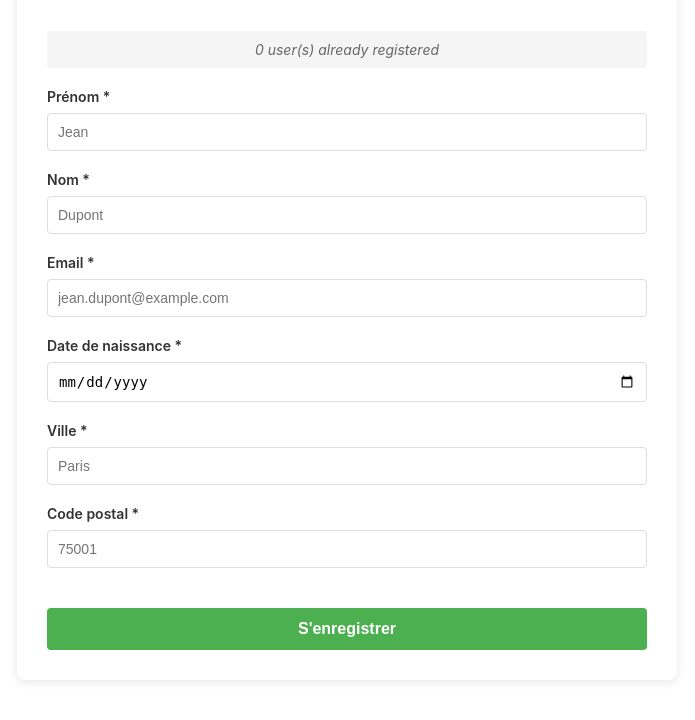
Register Form E2E Tests › should display validation errors when submitting empty form
This screenshot has width=695, height=720.
(page scrolled)
What coordinates should you click on to do the following:
click the button with test id "submit-button"
I would click on:
 (347, 629)
Its box is [47,608,647,650].
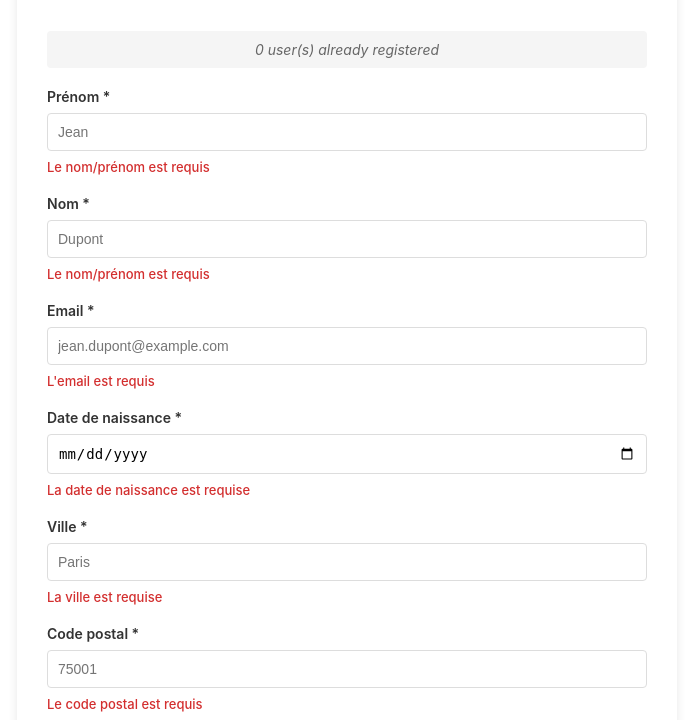
Expected: the text with test id "error-firstName" is shown, [47,159,210,175]
Expected: the text with test id "error-lastName" is shown, [47,266,210,282]
Expected: the text "L'email est requis" is shown, [47,373,155,389]
